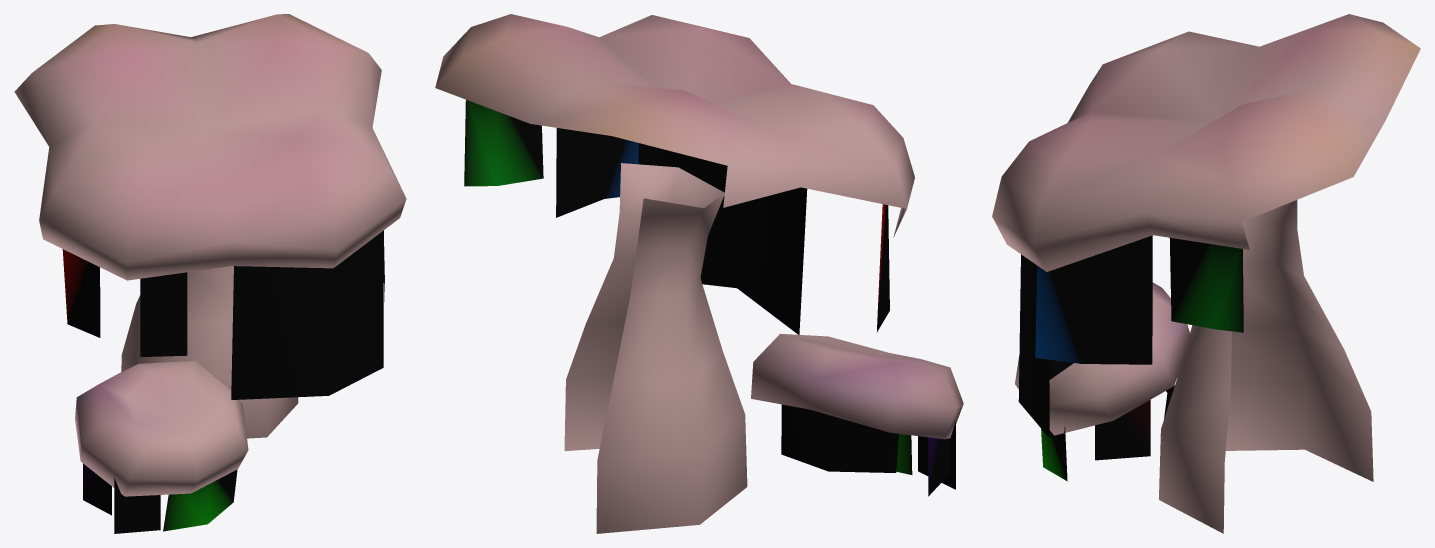
Rendered from S_Tree_White010_A1.FBX.
3 views of the same model, side by side, from view 1: azimuth 30°, elevation 25°; view 2: azimuth 150°, elevation 25°; view 3: azimuth 270°, elevation 25° (orthographic). The views are drawn at different scales.
Visible parts, largest first — view 1: S_Tree_White010_A1; view 2: S_Tree_White010_A1; view 3: S_Tree_White010_A1.
Part boxes in pixels (<box>): S_Tree_White010_A1: <box>14,14,406,533</box>; S_Tree_White010_A1: <box>435,14,963,533</box>; S_Tree_White010_A1: <box>992,14,1420,533</box>.
Size of the model in its own units: 238 by 243 by 205.
